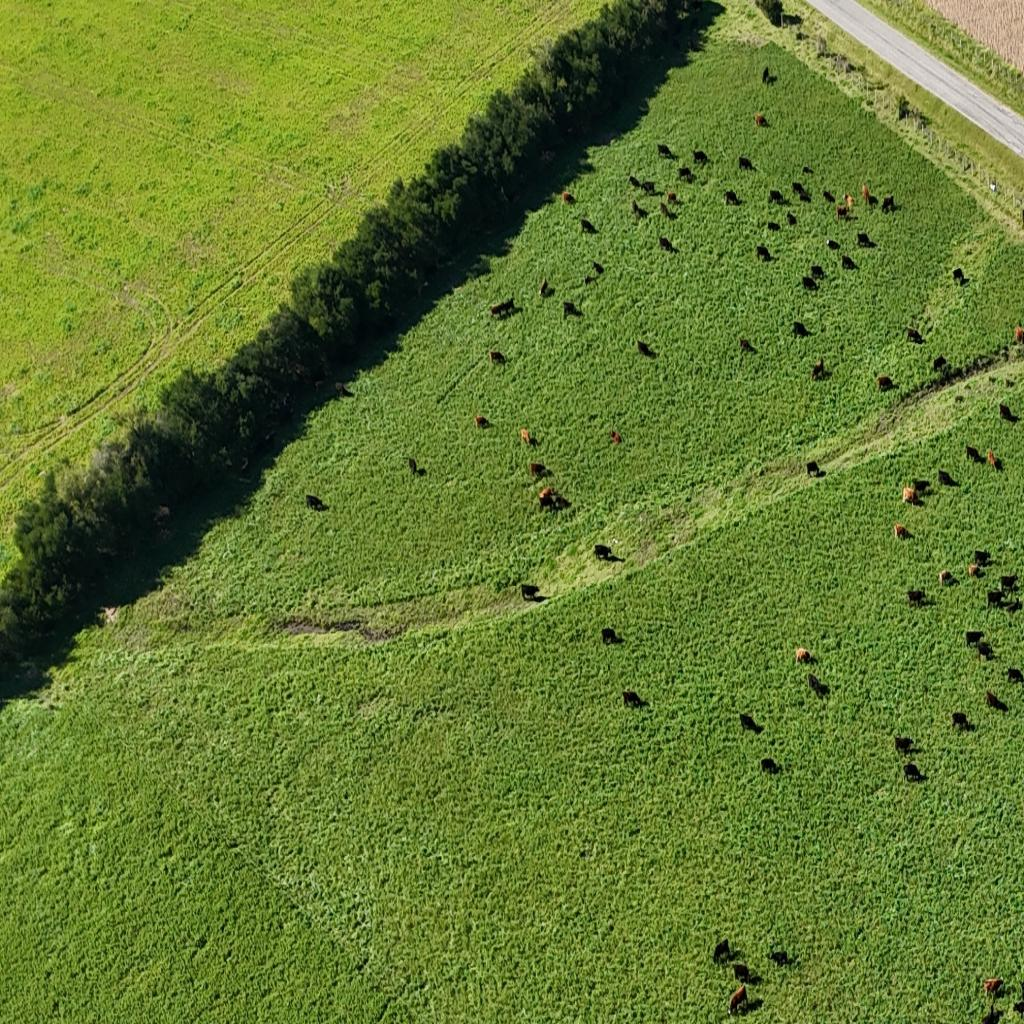cow: (729, 982, 747, 1014), (489, 298, 515, 320), (808, 673, 829, 699), (739, 712, 762, 734), (713, 938, 730, 964), (986, 689, 1007, 710), (903, 763, 923, 784), (1005, 996, 1021, 1022), (894, 736, 914, 756), (622, 690, 644, 708), (732, 963, 750, 985), (901, 485, 917, 509), (951, 712, 971, 731), (981, 1003, 999, 1024), (965, 630, 984, 649), (999, 403, 1017, 423), (761, 757, 781, 775), (792, 182, 810, 202), (742, 970, 762, 988), (907, 589, 926, 607), (305, 494, 325, 511), (987, 588, 1003, 609), (910, 478, 932, 493), (602, 626, 620, 644), (756, 245, 774, 263), (637, 340, 655, 358), (770, 949, 788, 967), (521, 584, 540, 601), (631, 201, 648, 220), (984, 978, 1003, 995), (334, 382, 354, 398), (538, 487, 554, 507), (1010, 324, 1022, 350), (604, 550, 626, 564), (973, 549, 990, 567), (999, 574, 1017, 591), (563, 301, 581, 318), (594, 544, 612, 561), (938, 469, 956, 486), (904, 328, 923, 344), (1005, 668, 1024, 684), (977, 641, 993, 660), (795, 647, 812, 664), (856, 232, 874, 248), (932, 355, 948, 373), (966, 445, 982, 463), (723, 190, 741, 206), (882, 195, 896, 215), (841, 255, 858, 271), (657, 143, 674, 159), (659, 236, 675, 253), (802, 275, 818, 292), (876, 376, 893, 392), (740, 337, 756, 354), (792, 322, 809, 338), (554, 493, 570, 510), (812, 358, 824, 380), (768, 190, 784, 206), (530, 462, 546, 478), (692, 150, 708, 166), (893, 523, 908, 540), (806, 461, 820, 479), (836, 203, 850, 221), (738, 157, 754, 172), (581, 219, 597, 234), (490, 350, 505, 366), (1005, 600, 1021, 615), (952, 268, 965, 286), (629, 175, 644, 190), (810, 265, 824, 281), (678, 166, 692, 182), (938, 570, 952, 586), (641, 180, 656, 194), (520, 427, 531, 446), (539, 278, 549, 298), (826, 238, 840, 252), (474, 415, 488, 429), (823, 190, 836, 205), (765, 220, 781, 232), (660, 201, 670, 220), (755, 113, 767, 128), (408, 456, 417, 476), (968, 563, 980, 578), (987, 450, 996, 470), (867, 192, 878, 208), (592, 262, 604, 276), (690, 0, 704, 12), (610, 429, 621, 444), (787, 212, 797, 228), (862, 184, 870, 204), (762, 66, 770, 85), (562, 192, 574, 204), (845, 193, 853, 211), (666, 190, 676, 204), (488, 304, 498, 318), (584, 274, 595, 286), (314, 380, 326, 390), (416, 465, 426, 477), (1018, 325, 1024, 343), (1018, 999, 1024, 1017), (802, 165, 812, 175)
